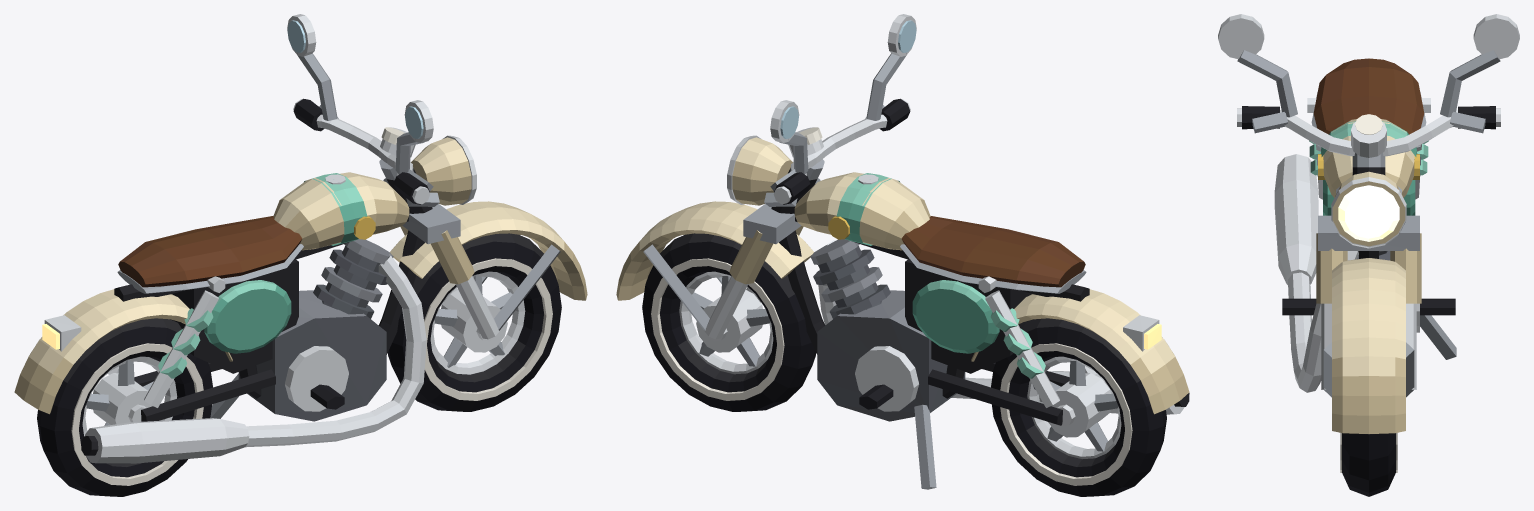
File: mt_motorcycle_cream.glb
The picture shows the model from 3 angles, left to right: view 1: azimuth 30°, elevation 25°; view 2: azimuth 150°, elevation 25°; view 3: azimuth 270°, elevation 25°; orthographic projection. The views are drawn at different scales.
Parts seen in each view (by area): view 1: base, wheelF_m, wheelR_m, bars_m; view 2: base, wheelR_m, wheelF_m, bars_m; view 3: base, bars_m, wheelF_m.
Part boxes in pixels (<box>): base: <box>14,168,587,463</box>; wheelF_m: <box>388,233,561,411</box>; wheelR_m: <box>37,318,212,496</box>; bars_m: <box>287,14,476,206</box>; base: <box>616,168,1189,489</box>; wheelR_m: <box>991,318,1166,496</box>; wheelF_m: <box>642,233,815,411</box>; bars_m: <box>727,14,916,206</box>; base: <box>1274,58,1456,433</box>; bars_m: <box>1218,14,1519,248</box>; wheelF_m: <box>1340,433,1397,496</box>.
Bounding box in the file's own units: 0.8442 × 0.5487 × 0.366.
